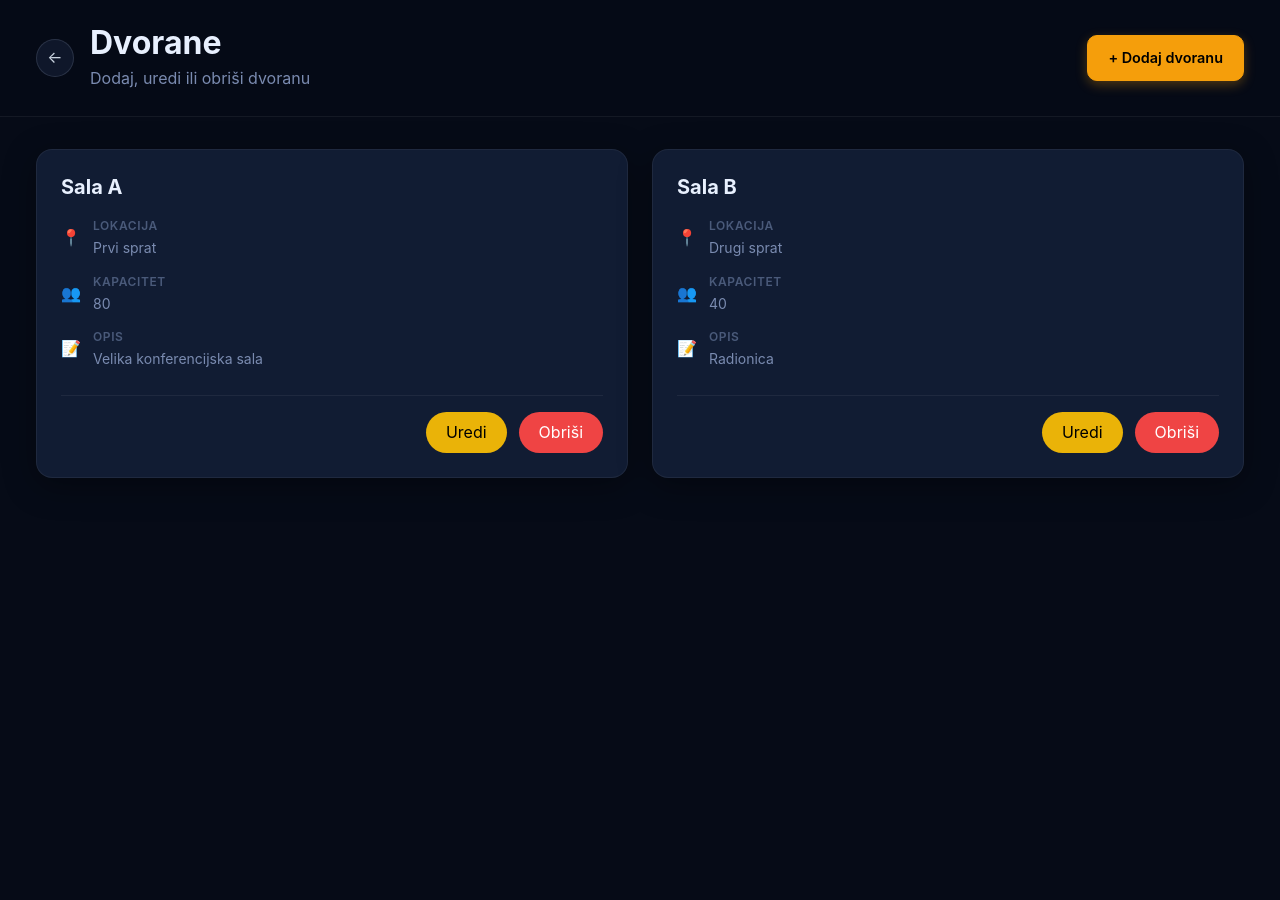
Scenario: RoomsPage › prikazuje gresku pri dodavanju
Expected: the heading "Sala A" is shown, left=61, top=175, right=122, bottom=199
Click the button "+ Dodaj dvoranu": point(1166, 58) left=1087, top=36, right=1244, bottom=80
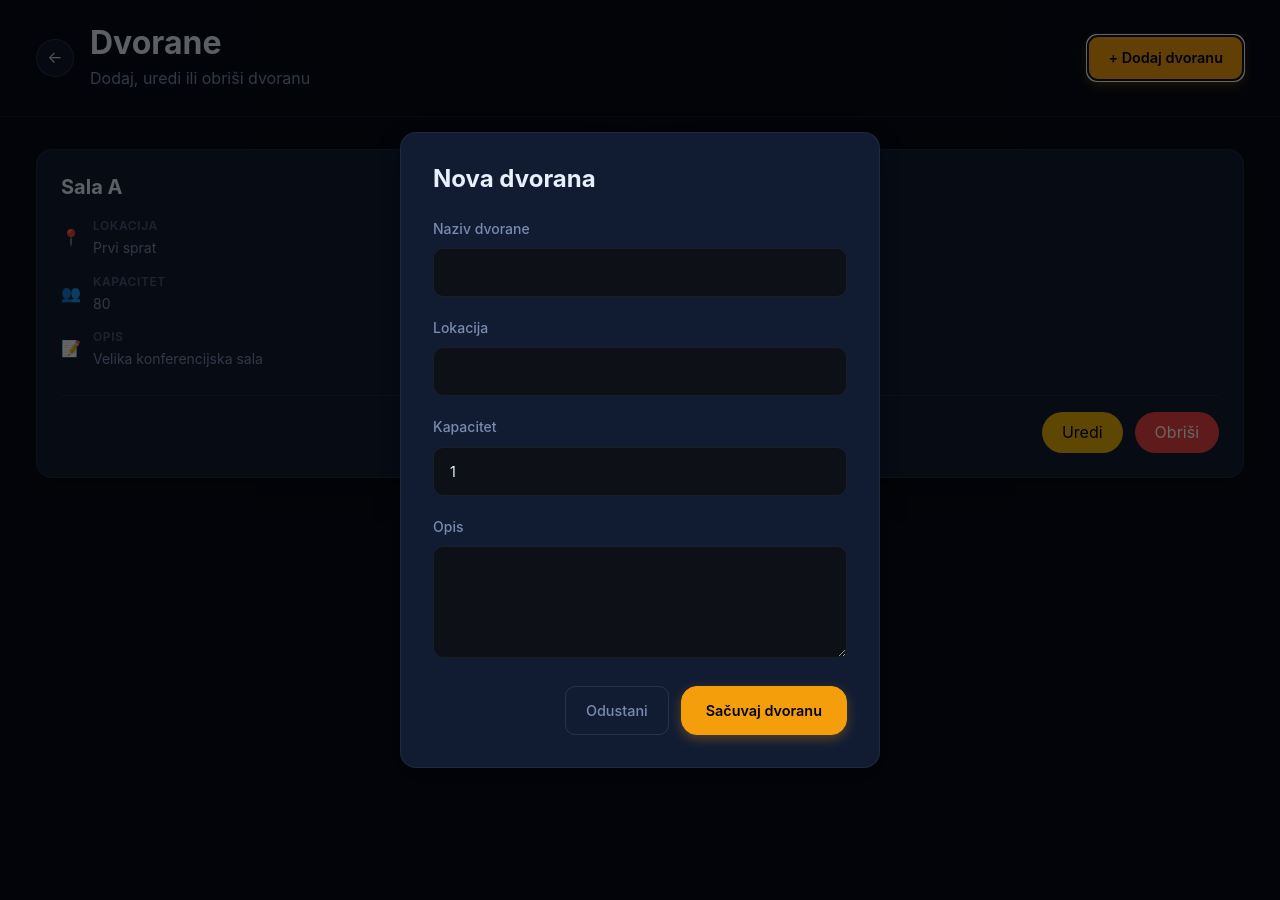
Expected: the text "Nova dvorana" is shown, left=433, top=164, right=596, bottom=193
In the field below "Naziv dvorane": point(640, 272) left=433, top=248, right=847, bottom=297, type "Sala A"
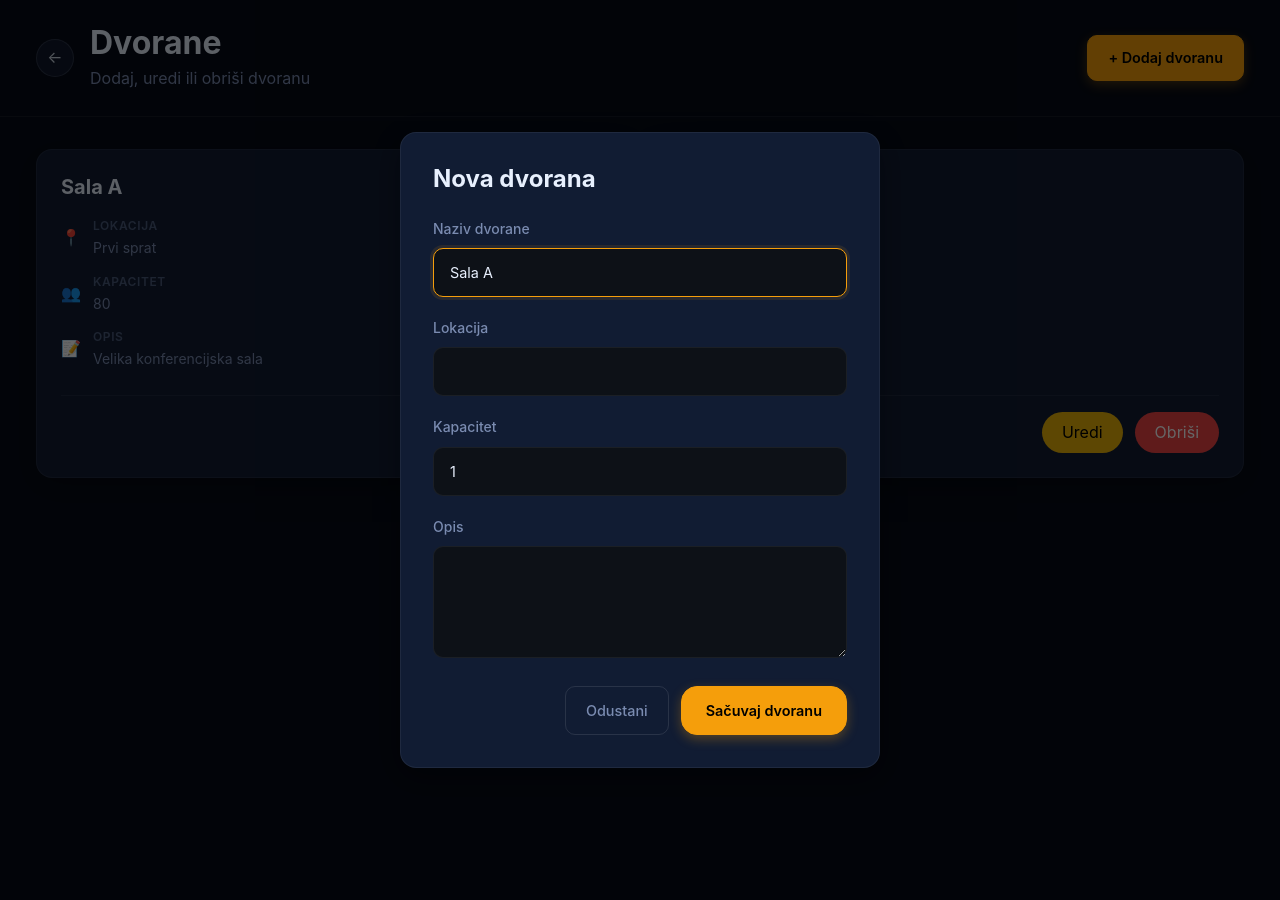
In the 2nd field: point(640, 372) left=433, top=347, right=847, bottom=396, type "Prvi sprat"
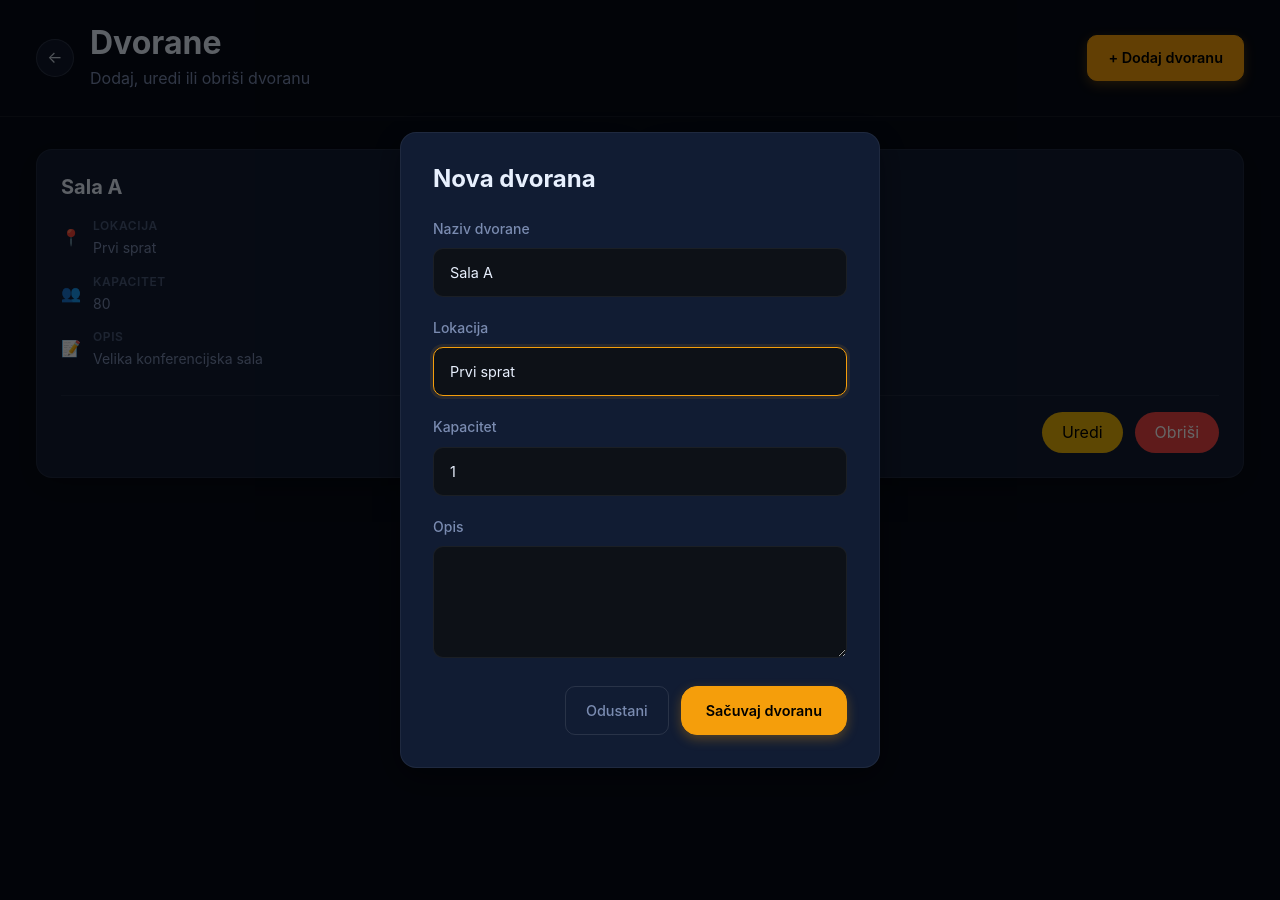
Replace the text in the number field with "80": point(640, 471) left=433, top=447, right=847, bottom=496
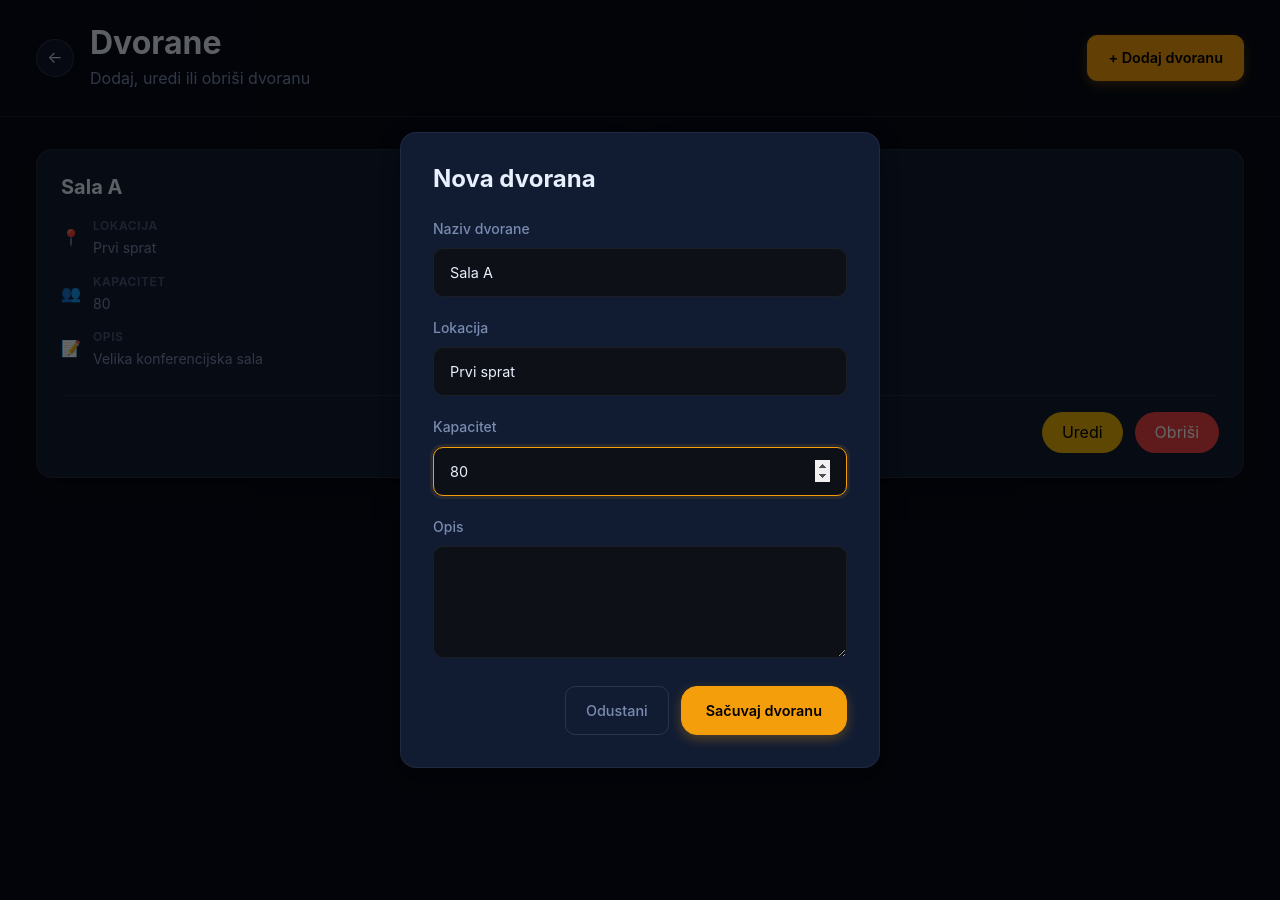
In the text box: point(640, 602) left=433, top=546, right=847, bottom=658, type "Duplikat"
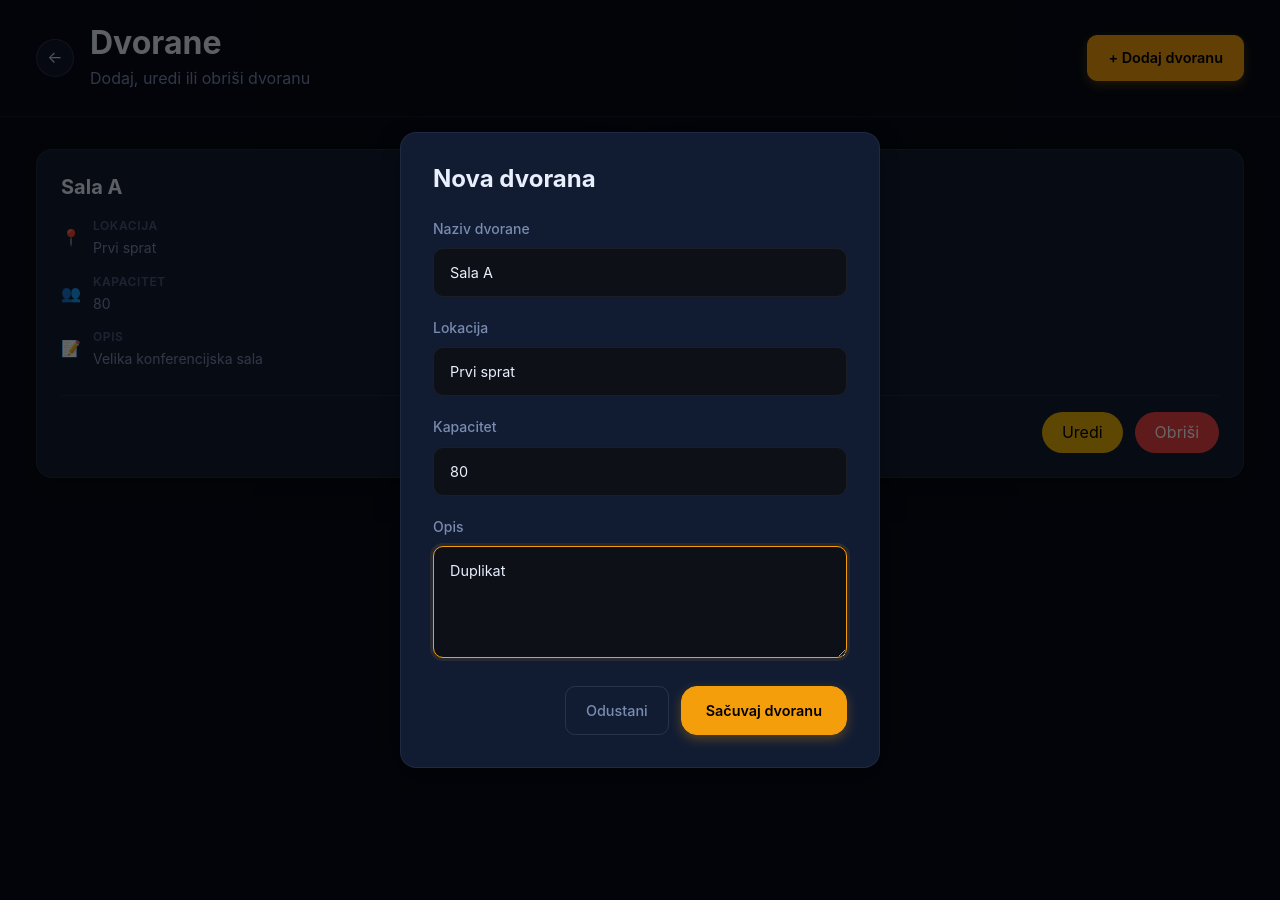
Expected: the text "Nova dvorana" is shown, left=433, top=164, right=596, bottom=193
Click the button "Sačuvaj dvoranu": point(764, 711) left=681, top=686, right=847, bottom=735
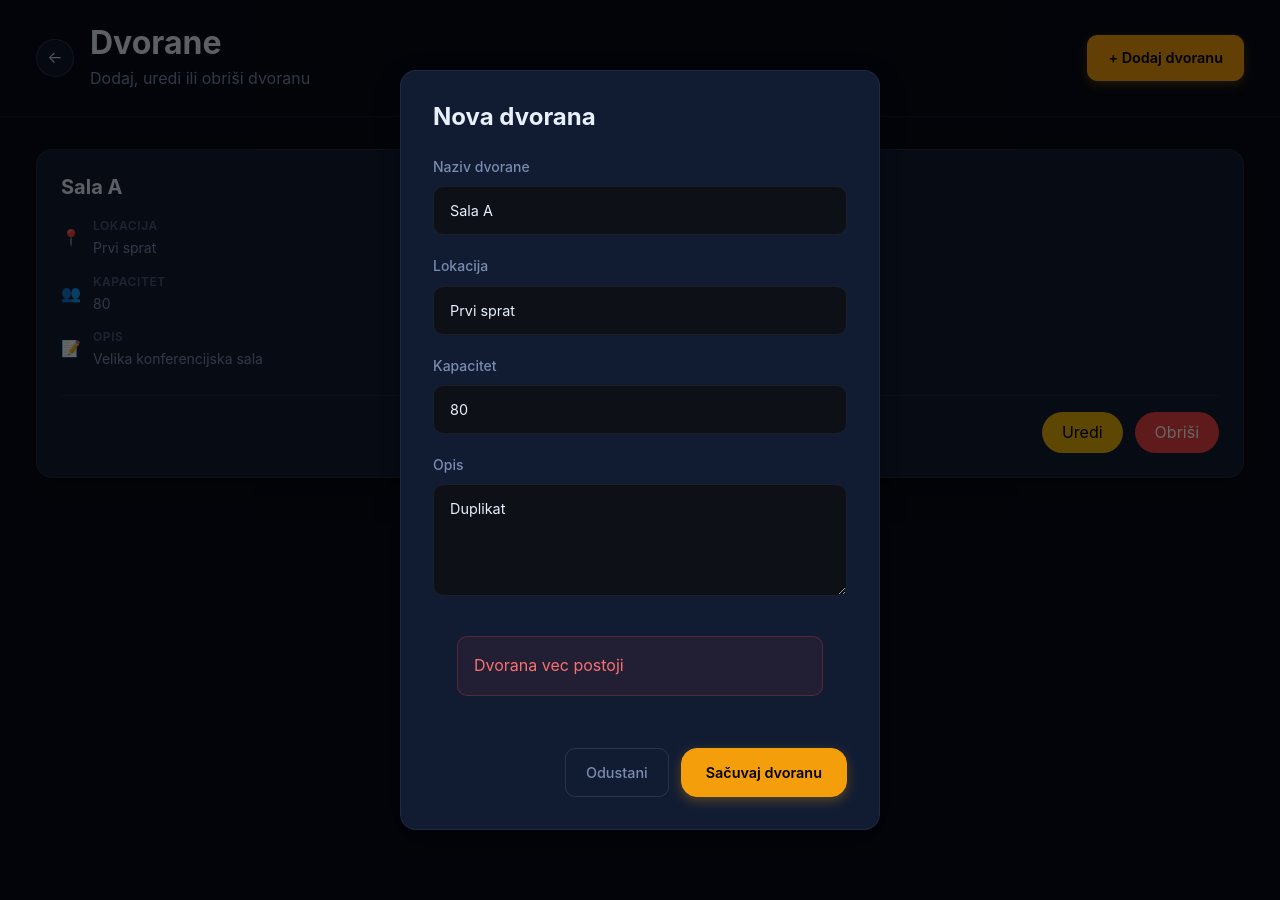
Expected: the text "Dvorana vec postoji" is shown, left=457, top=636, right=823, bottom=696
